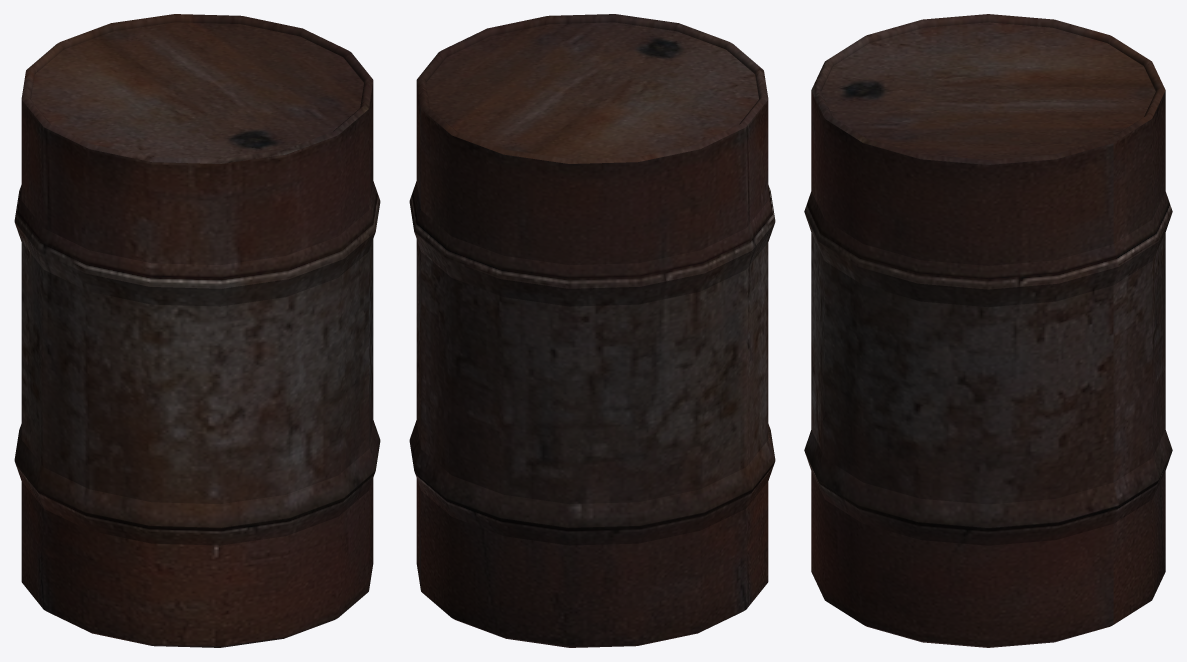
File: metal_barrel_4.fbx
3 renders of one model, left to right at view 1: azimuth 30°, elevation 25°; view 2: azimuth 150°, elevation 25°; view 3: azimuth 270°, elevation 25°, orthographic.
Parts seen in each view (by area): view 1: metal_barrel_4; view 2: metal_barrel_4; view 3: metal_barrel_4.
Part boxes in pixels (<box>): metal_barrel_4: <box>14,14,380,647</box>; metal_barrel_4: <box>409,14,775,647</box>; metal_barrel_4: <box>804,14,1172,647</box>.
Bounding box in the file's own units: 0.7488 × 0.7488 × 1.09.
